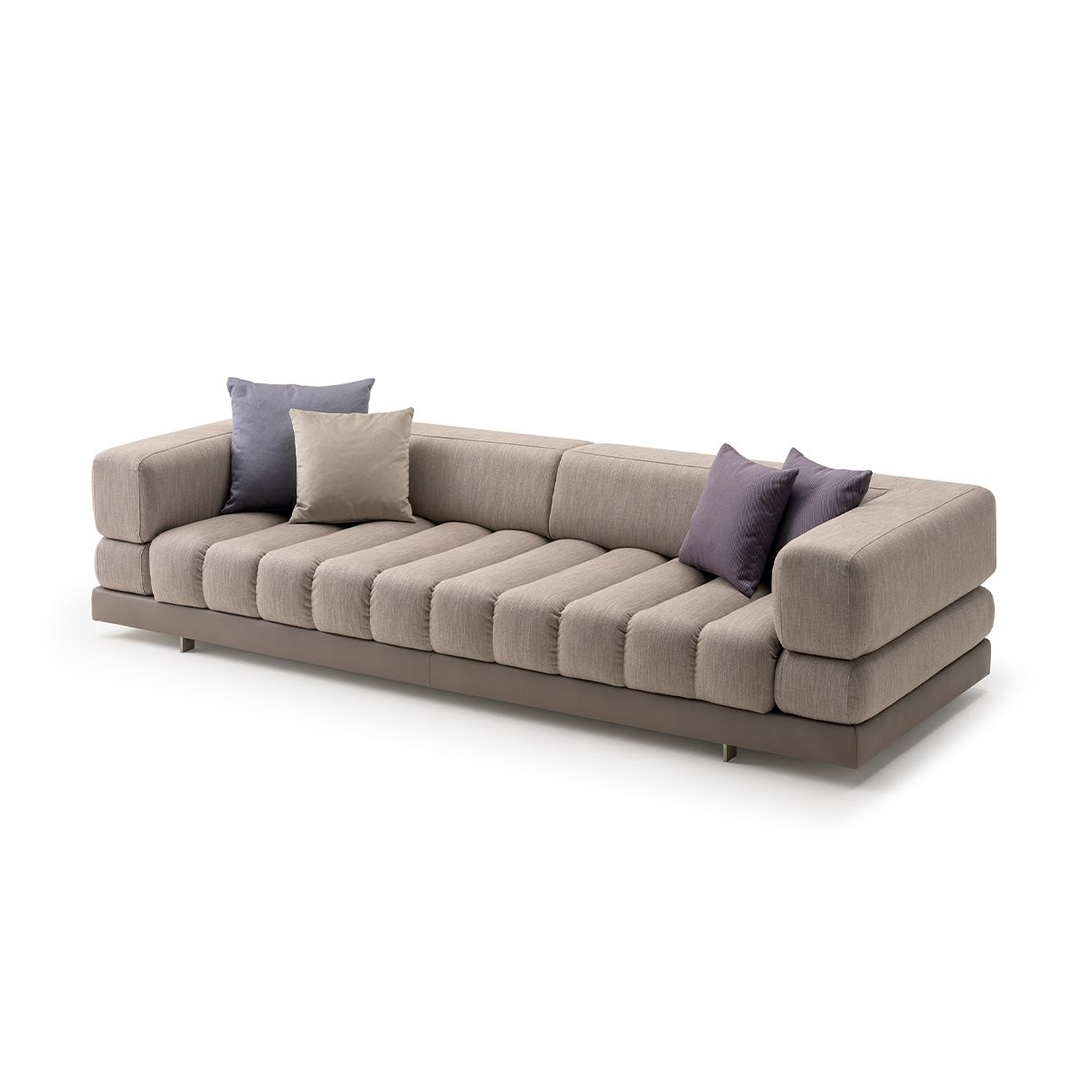3seatersofa: (92, 379, 995, 766)
backrest: (410, 422, 712, 557), (863, 475, 926, 503)
base: (92, 587, 989, 767)
leftarmrest: (773, 482, 995, 729)
leg: (180, 637, 193, 653), (723, 744, 736, 760)
pillow: (223, 378, 420, 524), (679, 446, 871, 590)
rightarmrest: (93, 422, 230, 594)
seat: (150, 514, 797, 712)
